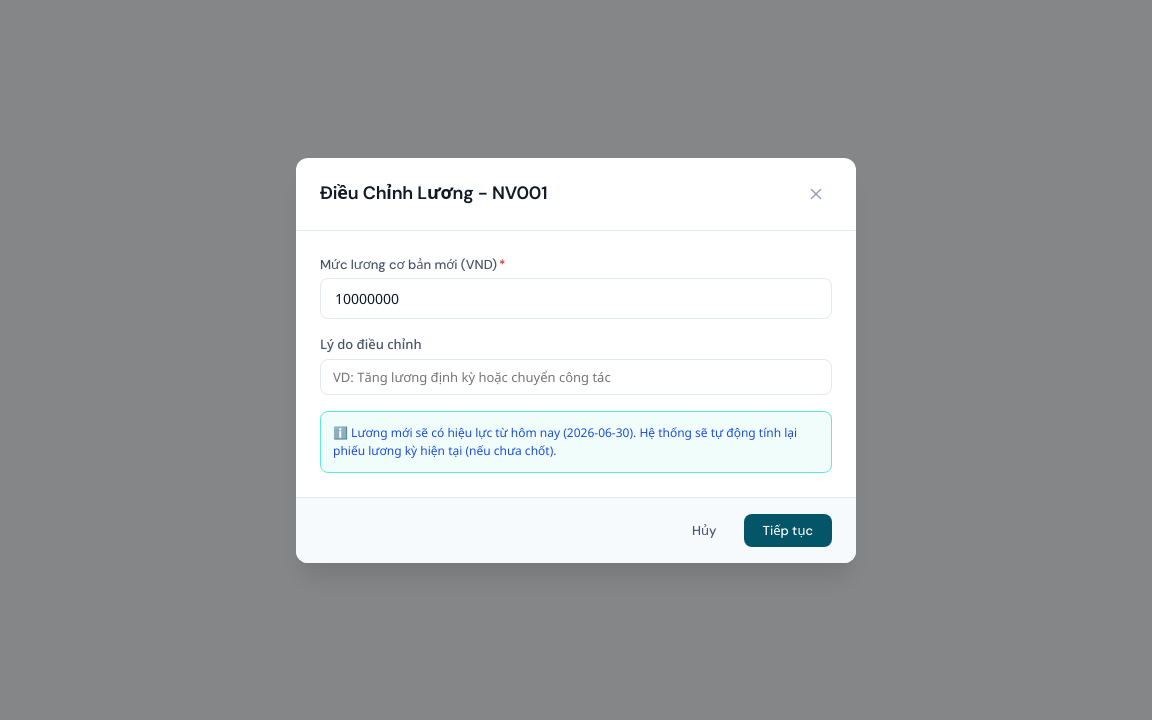
Test case: AdjustSalaryFlow › transitions to confirm modal on continue
The width and height of the screenshot is (1152, 720).
Replace the text in the number field labelled "Mức lương cơ bản mới (VND)*" with "12000000" at (576, 298), box [320,278,832,319]
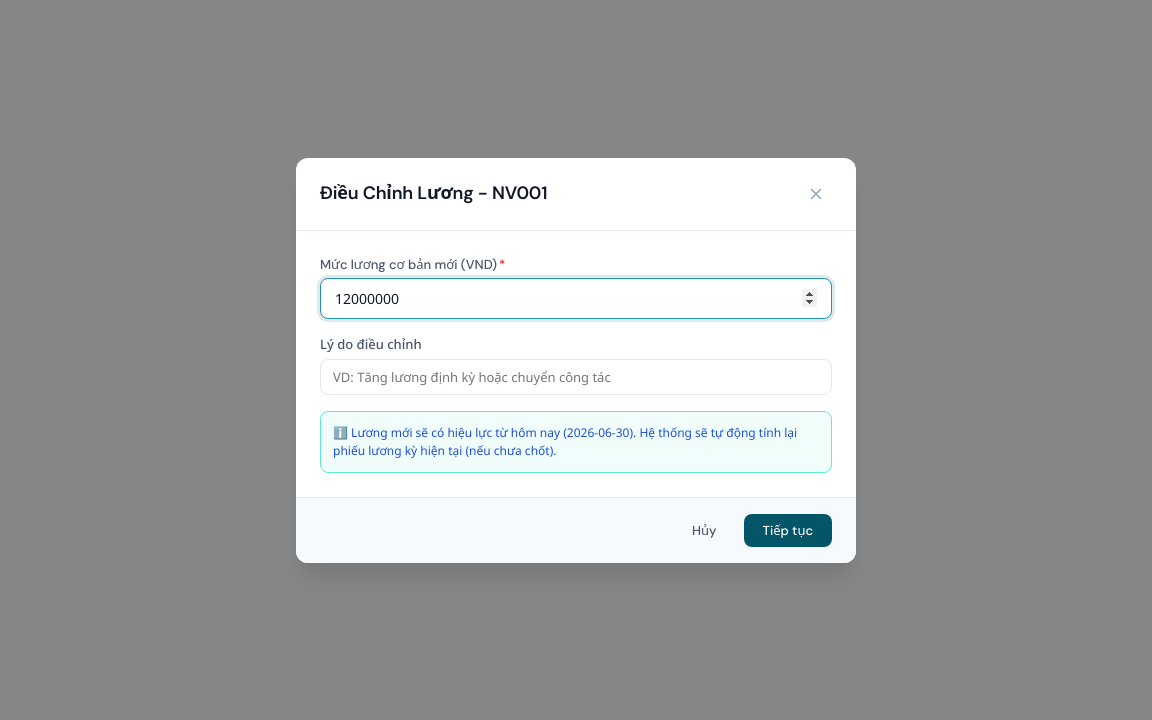
Type "Tăng lương định kỳ" into the field labelled "Lý do điều chỉnh".
click(576, 376); type("Tăng lương định kỳ")  # box [320,358,832,394]
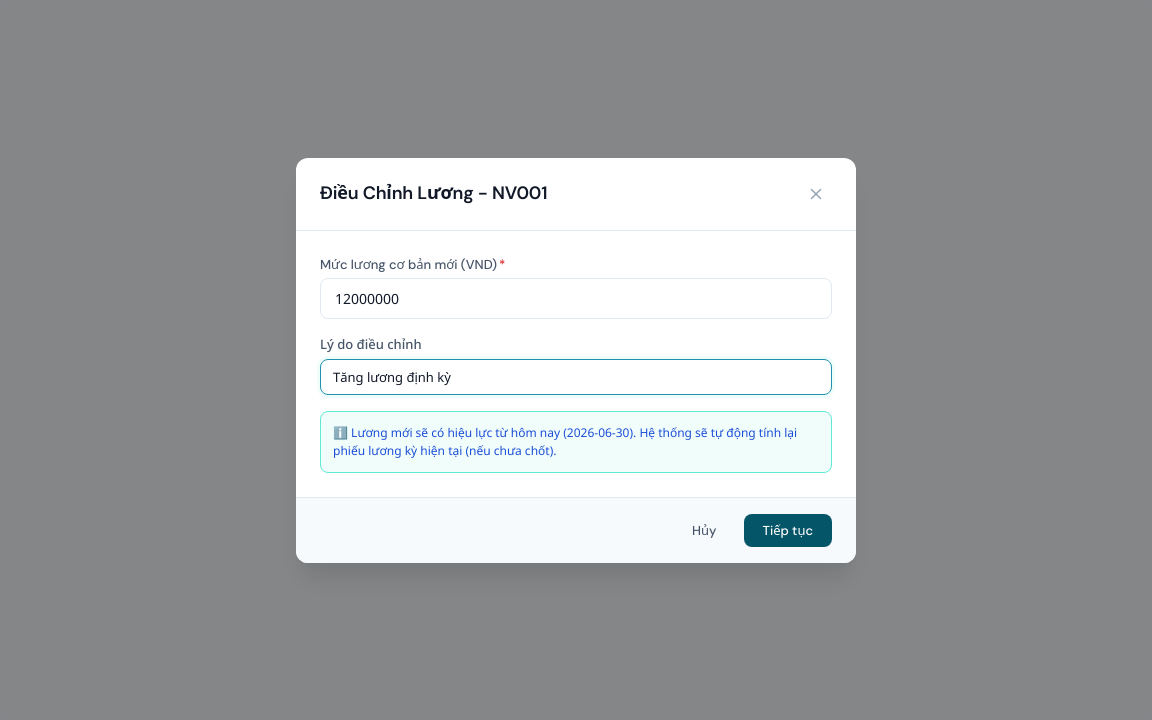
Click the button "Tiếp tục".
click(788, 530)  # box [744,514,832,546]
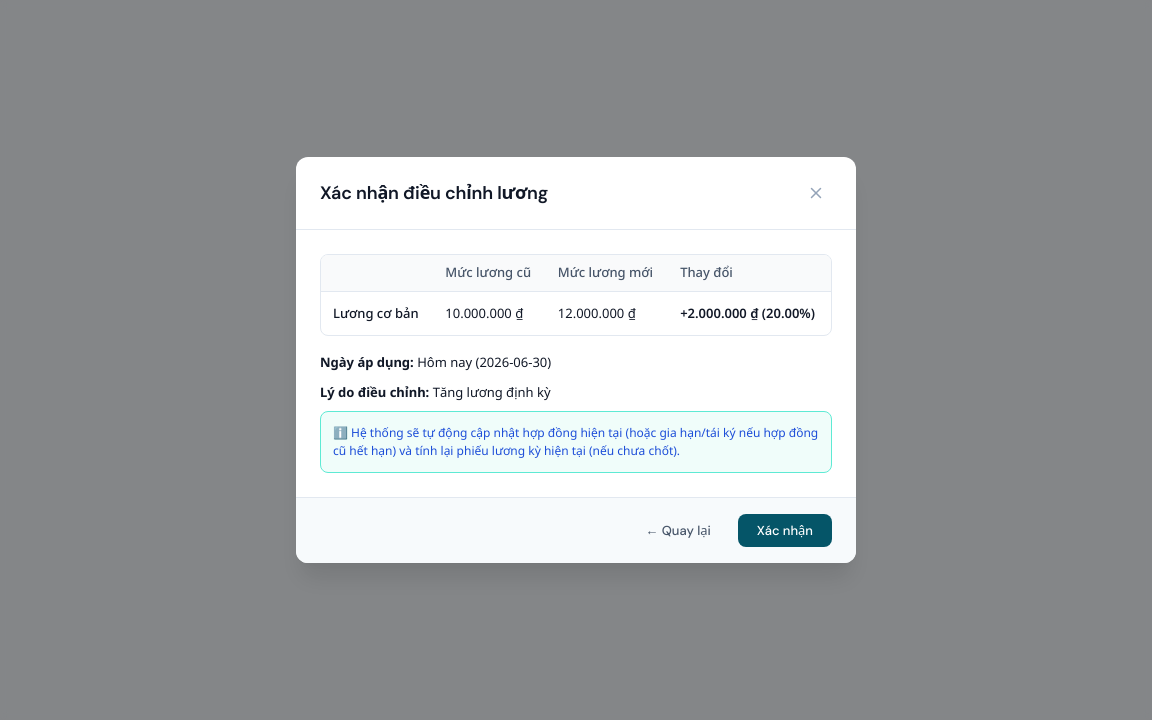
Check: the heading "Xác nhận điều chỉnh lương" is shown, box [320,182,548,205]
Check: the text "10.000.000 ₫" is shown, box [433,291,546,335]
Check: the text "12.000.000 ₫" is shown, box [546,291,668,335]
